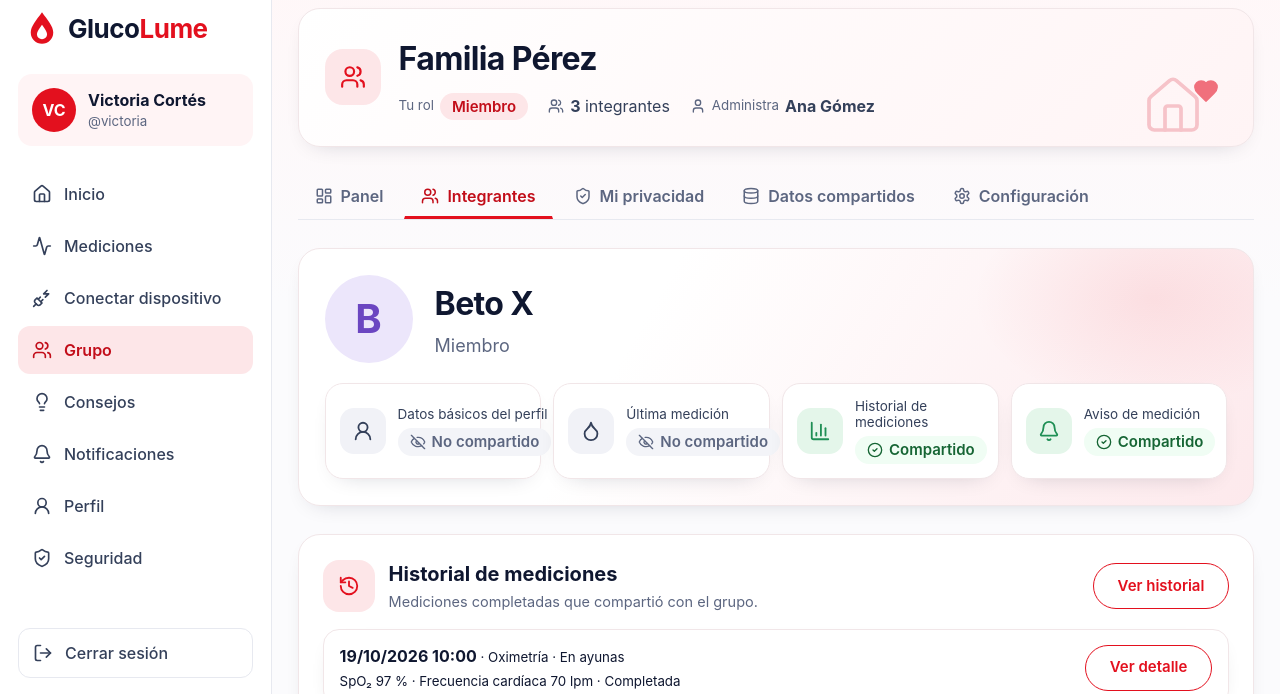
Test case: Dashboard del grupo › el historial y los avisos de un integrante muestran solo los últimos 5 y un botón al costado abre todos
Click the button "Ver historial". click: (1161, 586)
box: top-left (1093, 563), bottom-right (1229, 609)
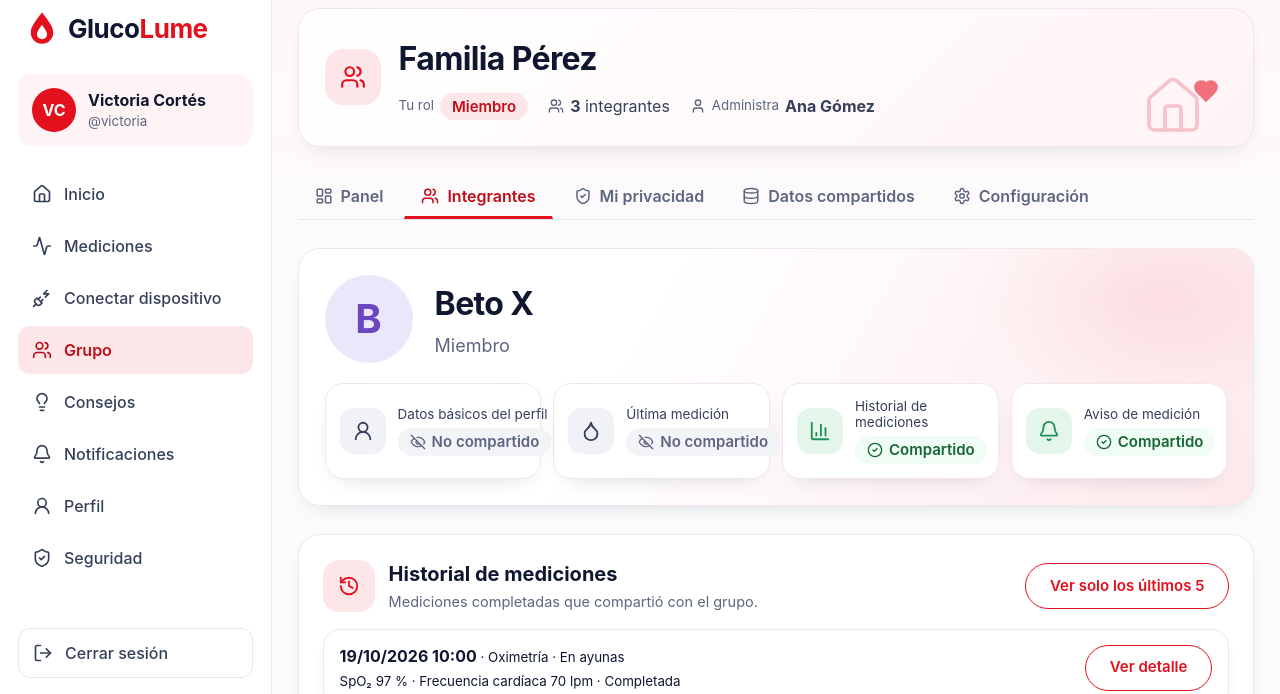
Click the button "Ver solo los últimos 5". click: (1127, 586)
box: top-left (1025, 563), bottom-right (1229, 609)
(page scrolled)
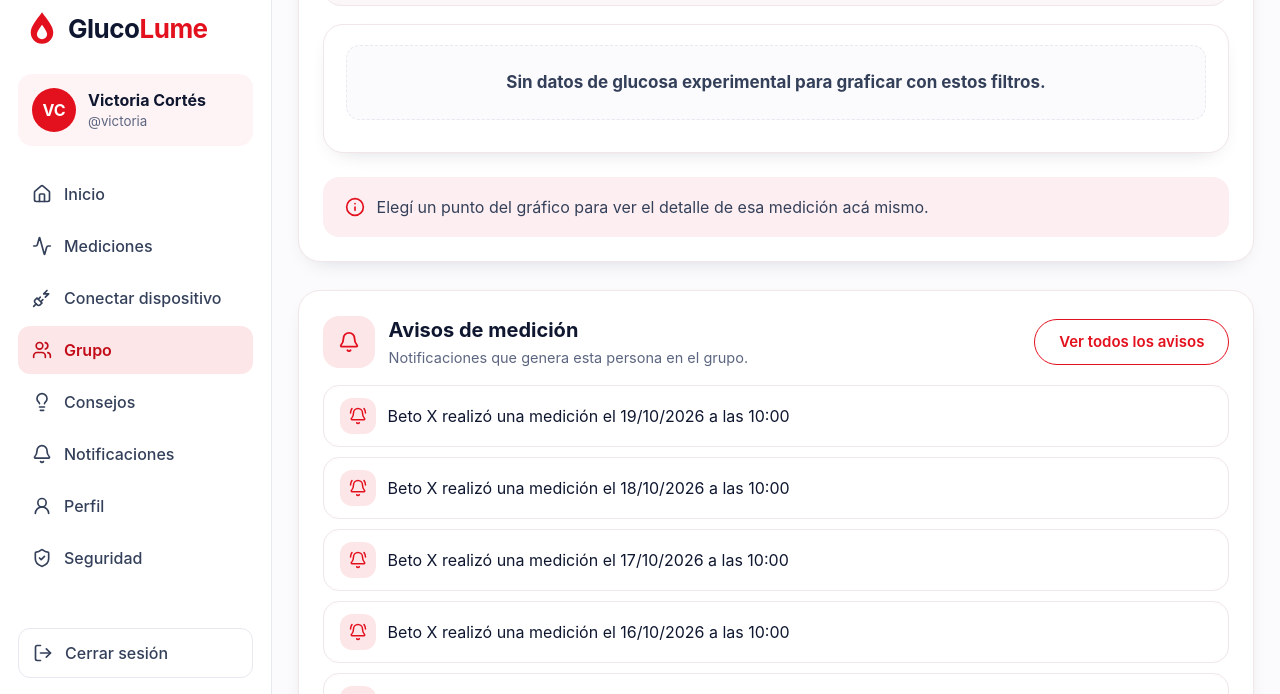
Click the button "Ver todos los avisos". click: (1132, 342)
box: top-left (1034, 319), bottom-right (1229, 365)
(page scrolled)
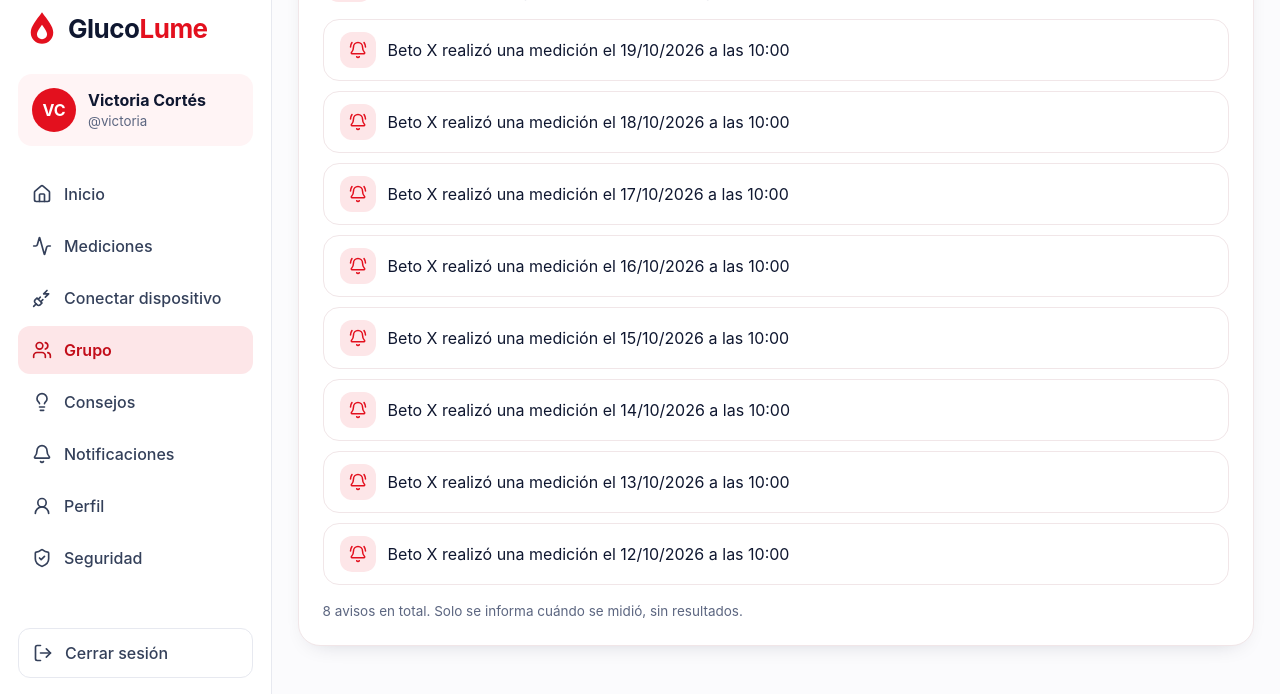
Now the text "8 avisos en total" is shown, box top-left (323, 603), bottom-right (434, 619)
